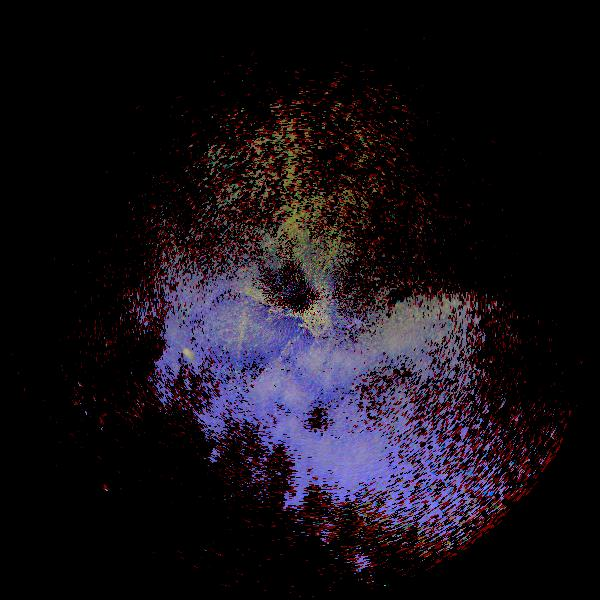roost: (133, 334, 208, 409)
